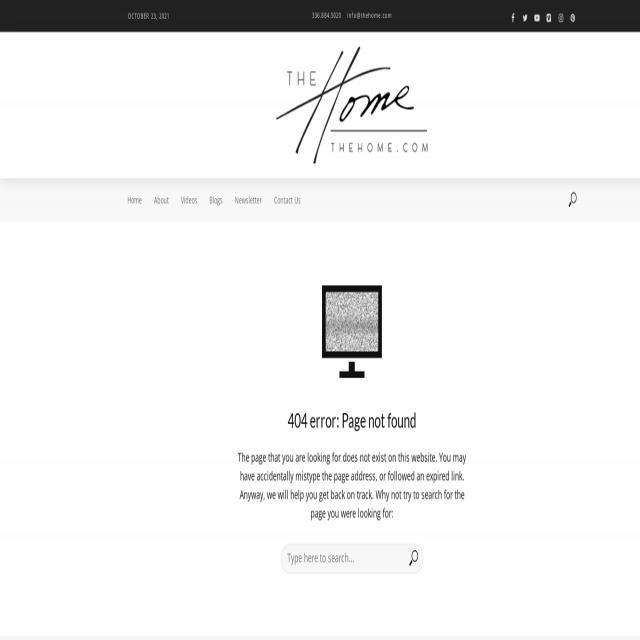button: (276, 47, 428, 164), (322, 286, 382, 378), (403, 545, 423, 574)
field: (281, 544, 423, 573)
